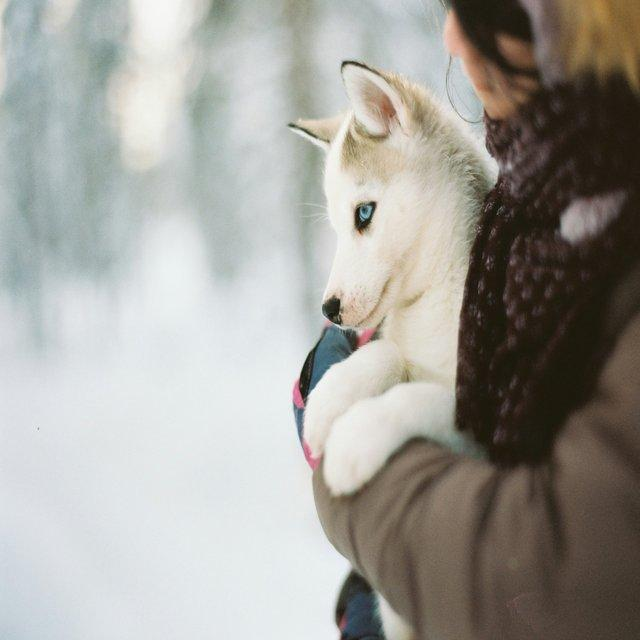husky: (285, 58, 500, 638)
